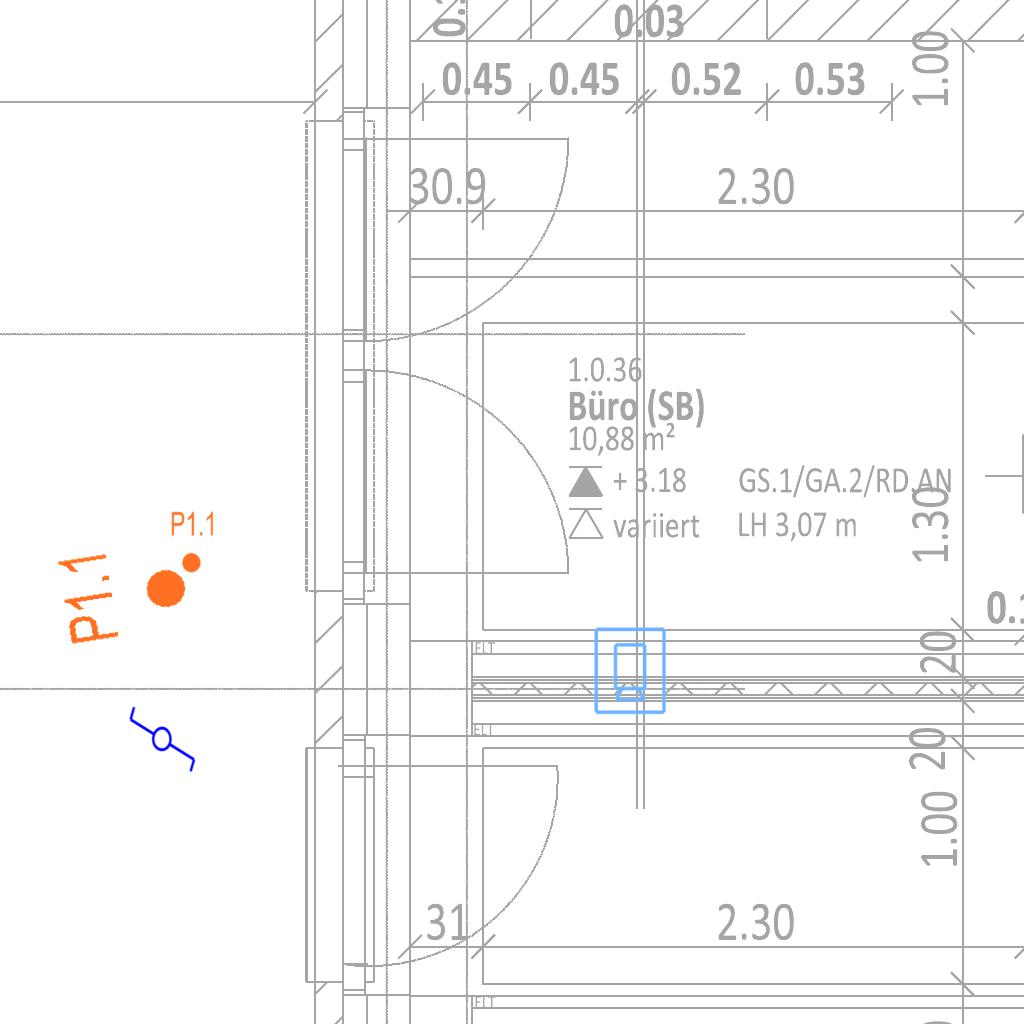Downlight_LED_Einbauleuchten_Flur: (54, 536, 195, 648), (170, 510, 216, 574)
KFO_Kamera_mit_Festobjektiv: (591, 625, 668, 716)
Wechselschalter: (127, 696, 199, 774)
